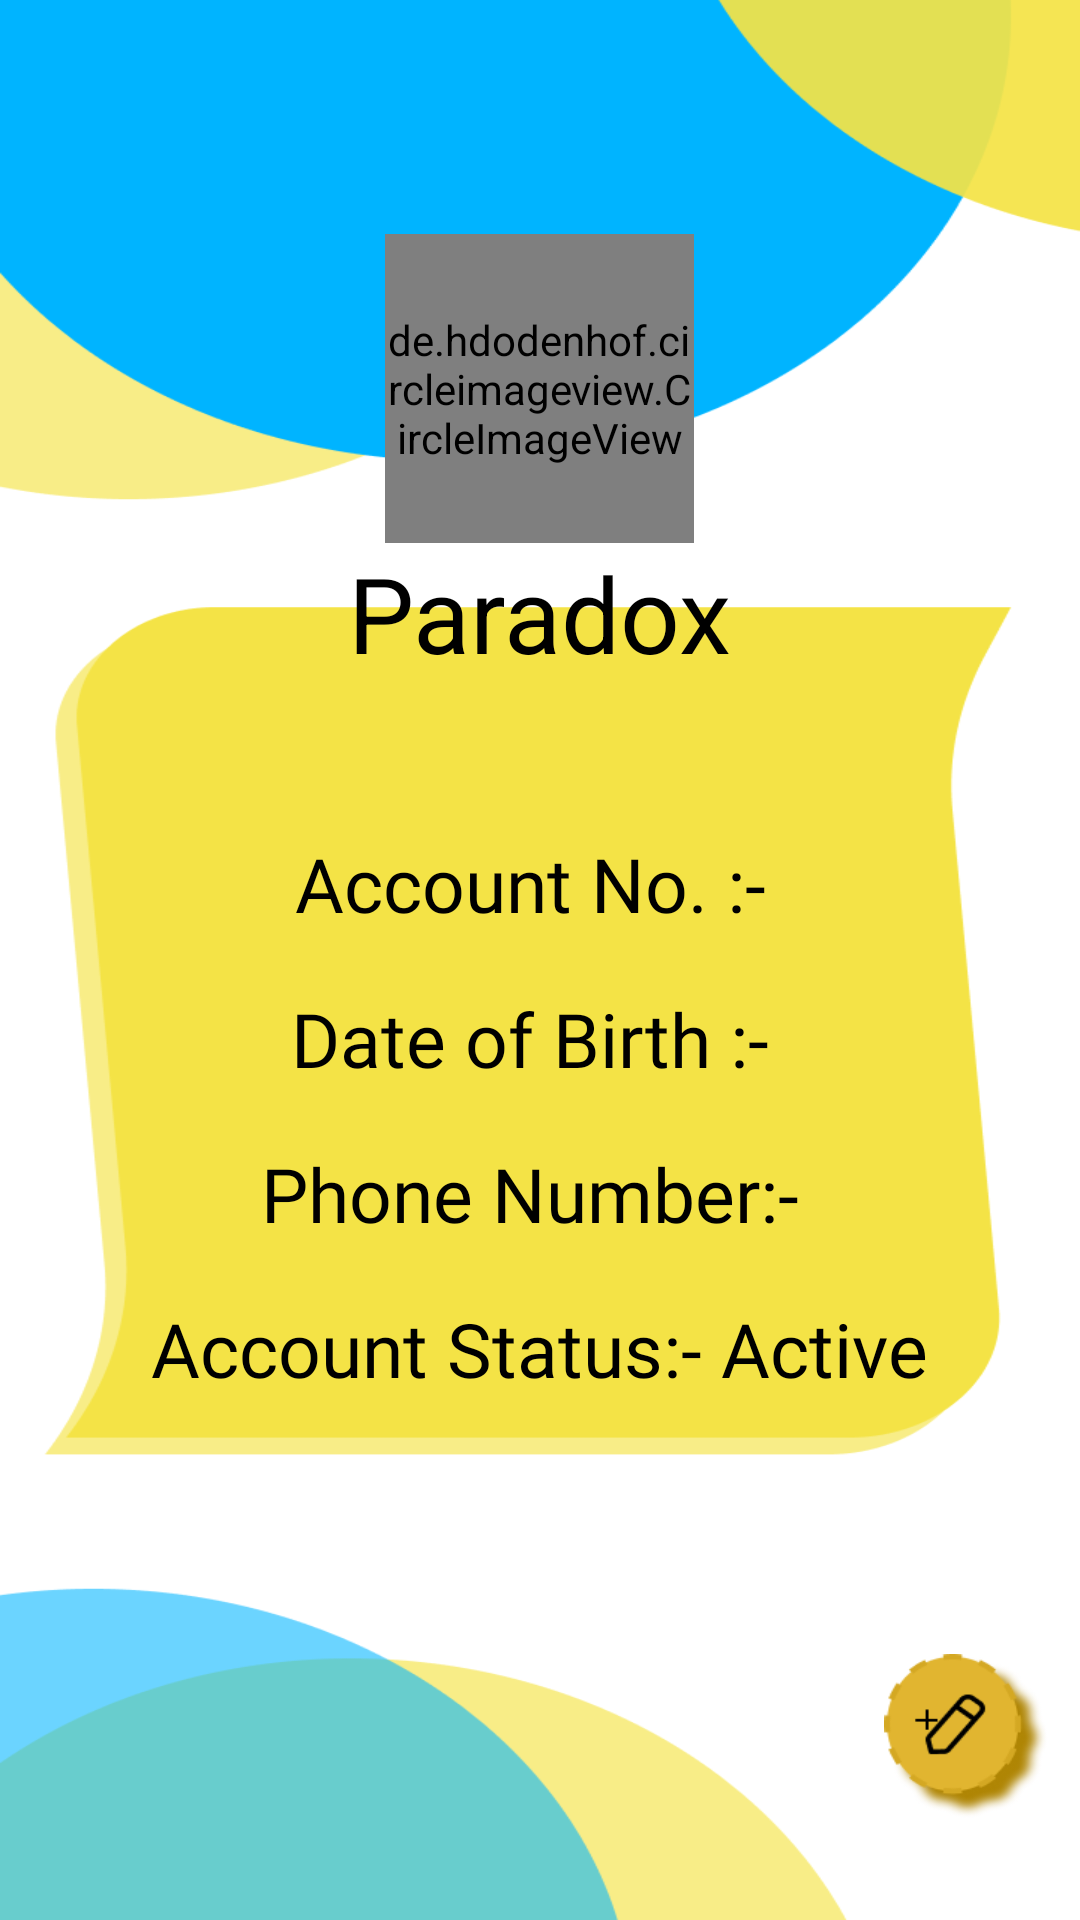

Icon bounding boxes for this 1080w x 1920h phone screenshot, format (x1, y1, x2, y2):
editcoin: (884, 1654, 1042, 1813)
